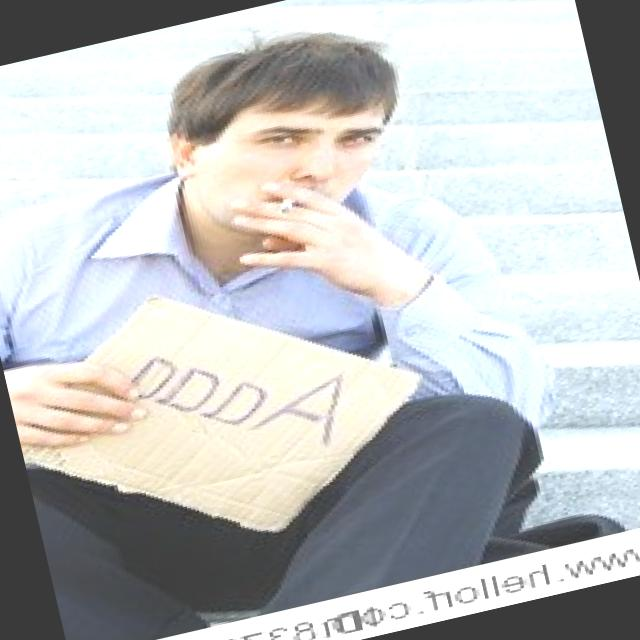cigarette: (264, 195, 302, 222)
